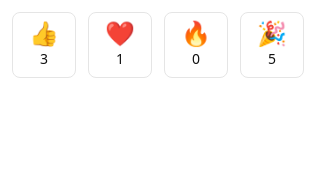
Test: EmojiReactionBar › updates the displayed count after a successful reaction
The width and height of the screenshot is (332, 172).
Expected: the text "3" is shown, [40,49,48,69]
Click the button named "React with 👍": [44, 45] box [12,12,76,78]
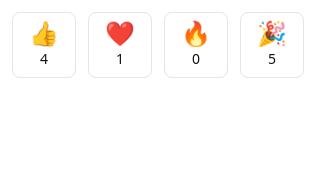
Expected: the text "4" is shown, [40,49,48,69]
